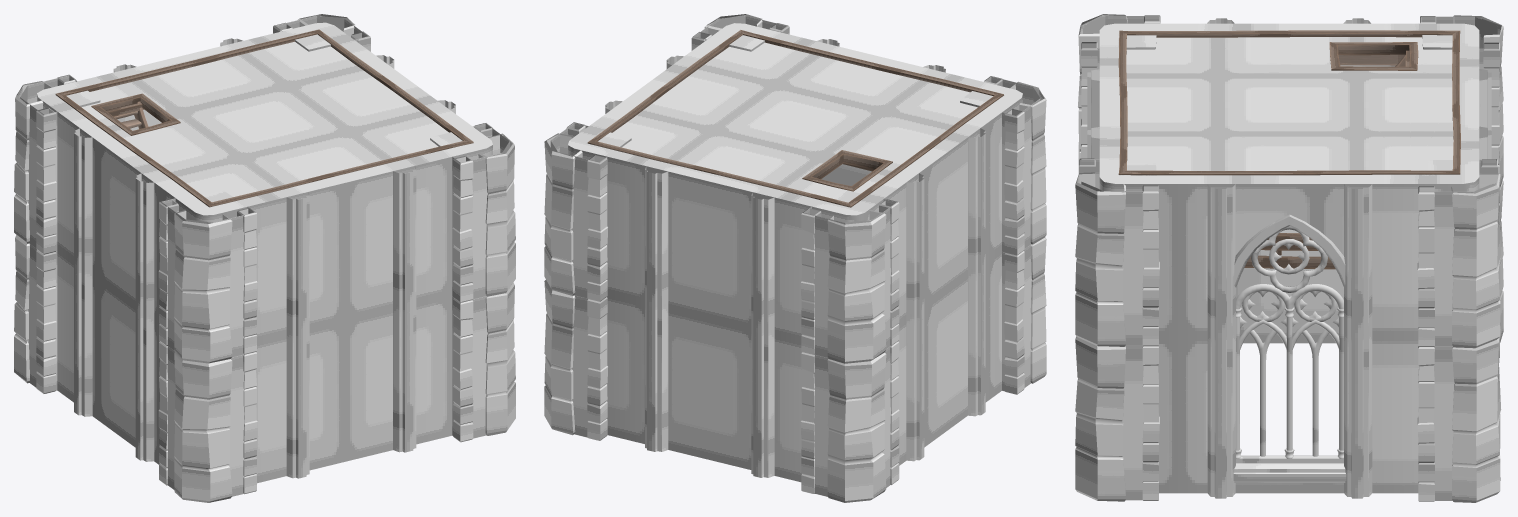
The model's file is SM_TowerF_Mid_04.fbx.
3 renders of one model, left to right at view 1: azimuth 30°, elevation 25°; view 2: azimuth 150°, elevation 25°; view 3: azimuth 270°, elevation 25°, orthographic. The views are drawn at different scales.
Parts seen in each view (by area): view 1: SM_TowerF_Mid_04_LOD0; view 2: SM_TowerF_Mid_04_LOD0; view 3: SM_TowerF_Mid_04_LOD0.
Part boxes in pixels (box(x1,y1,x2,y2)): SM_TowerF_Mid_04_LOD0: box(14, 14, 515, 502); SM_TowerF_Mid_04_LOD0: box(544, 14, 1046, 502); SM_TowerF_Mid_04_LOD0: box(1075, 14, 1503, 502).
Bounding box in the file's own units: 1129 × 1129 × 915.
